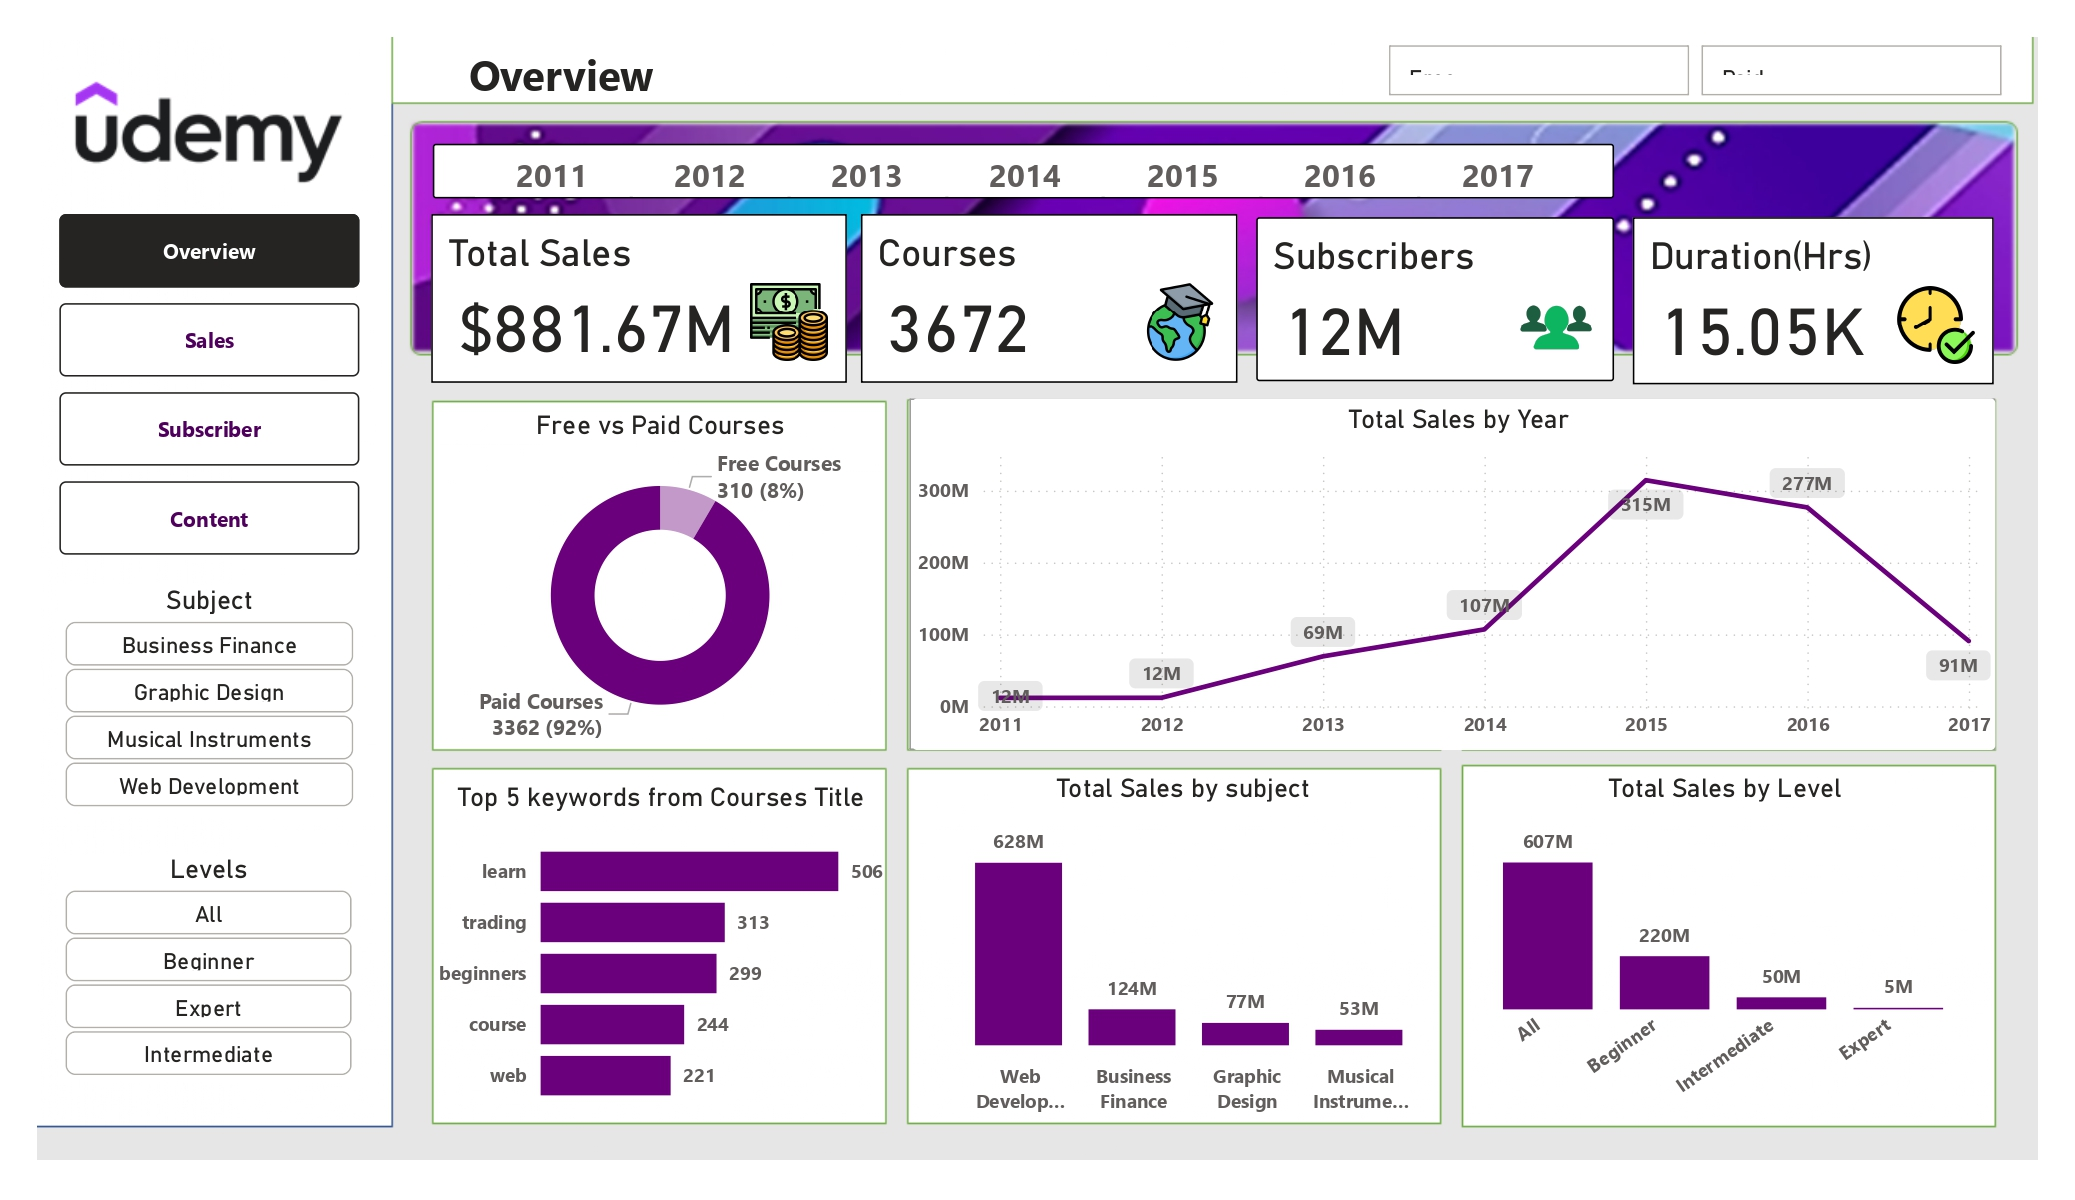

This screenshot's page, from the dashboard's own definition file:
{"tool":"powerbi","page":{"name":"Overview","canvas":[1280,720],"ordinal":0},"visuals":[{"type":"pageNavigator","box":[13.8,112.5,192.5,221.2],"z":0},{"type":"cardVisual","title":"Courses","fields":{"Data":["_Measures.Count_Course"]},"box":[527.1,113.3,241.2,107.5],"z":1000},{"type":"cardVisual","title":"Duration(Hrs)","fields":{"Data":["_Measures.Total_Content_Duration"]},"box":[1020.8,114.6,231.2,107.5],"z":2000},{"type":"cardVisual","title":"Subscribers","fields":{"Data":["_Measures.Total_Subscribers"]},"box":[780.2,114.6,229.2,105.8],"z":3000},{"type":"cardVisual","title":"Total Sales","fields":{"Data":["_Measures.Total Sales"]},"box":[252.1,113.3,266.2,107.5],"z":4000},{"type":"slicer","fields":{"Values":["dim_date.Year"]},"box":[252.7,67.6,756.7,35.3],"z":5000},{"type":"advancedSlicerVisual","title":"Levels","fields":{"Values":["dim_level.Level"]},"box":[13.2,521.6,192.5,146.9],"z":6000},{"type":"donutChart","title":"Free vs Paid Courses ","fields":{"Y":["_Measures.Free Courses Count","_Measures.Paid Courses Count"]},"box":[255.3,238,286.5,218.9],"z":7000},{"type":"columnChart","fields":{"Y":["_Measures.Total Sales"],"Category":["dim_level.Level"]},"box":[908.1,470.2,343.8,220.4],"z":8000},{"type":"barChart","title":"Top 5 keywords from Courses Title","fields":{"Category":["dim_words.word"],"Y":["_Measures.Count_Words"]},"box":[255.7,476.1,286.5,214.5],"z":9000},{"type":"advancedSlicerVisual","title":"Subject","fields":{"Values":["dim_subject.subject"]},"box":[13.2,349.7,194,149.9],"z":10000},{"type":"advancedSlicerVisual","fields":{"Values":["dim_paid.course_type"]},"box":[860.2,0,401.9,42.2],"z":11000},{"type":"textbox","box":[229,0,234.8,53.6],"z":12000},{"type":"shape","box":[229,0,223.2,37.7],"z":13000},{"type":"textbox","box":[229,0,211.6,53.6],"z":14000},{"type":"columnChart","fields":{"Category":["dim_subject.subject"],"Y":["_Measures.Total Sales"]},"box":[561.3,470.2,343.8,220.4],"z":15000},{"type":"shape","box":[558.4,230.7,695,224.8],"z":16000},{"type":"lineChart","fields":{"Category":["dim_date.Year"],"Y":["_Measures.Total Sales"]},"box":[559.8,230.7,693.6,224.8],"z":17000}]}

Visuals, with their boxes on the page's 1280x720 design canvas (x1, y1, x2, y2). These are canvas units, not pixel positions in the 2075x1200 screenshot, which may show the page scaled, cropped or inside an application window:
pageNavigator: 14/112/206/334
"Courses" cardVisual: 527/113/768/221
"Duration(Hrs)" cardVisual: 1021/115/1252/222
"Subscribers" cardVisual: 780/115/1009/220
"Total Sales" cardVisual: 252/113/518/221
slicer - dim_date.Year: 253/68/1009/103
"Levels" advancedSlicerVisual: 13/522/206/668
"Free vs Paid Courses " donutChart: 255/238/542/457
columnChart - _Measures.Total Sales x dim_level.Level: 908/470/1252/691
"Top 5 keywords from Courses Title" barChart: 256/476/542/691
"Subject" advancedSlicerVisual: 13/350/207/500
advancedSlicerVisual - dim_paid.course_type: 860/0/1262/42
textbox: 229/0/464/54
shape: 229/0/452/38
textbox: 229/0/441/54
columnChart - dim_subject.subject x _Measures.Total Sales: 561/470/905/691
shape: 558/231/1253/456
lineChart - dim_date.Year x _Measures.Total Sales: 560/231/1253/456
